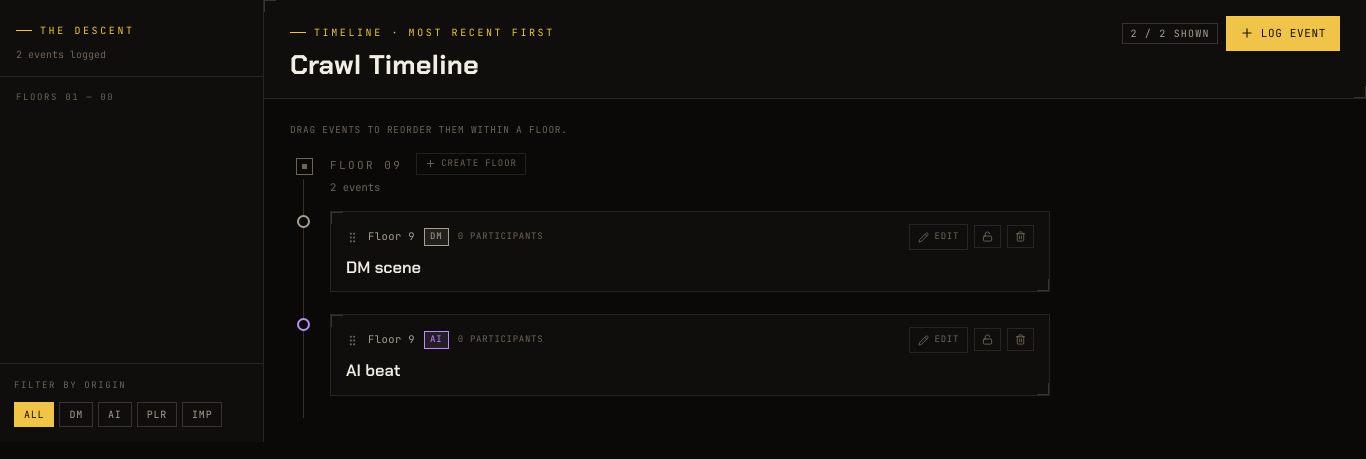
Test case: CampaignTimeline › filters events by provenance origin from the rail
Expected: the heading "DM scene" is shown, [346, 257, 421, 278]
Expected: the heading "AI beat" is shown, [346, 360, 400, 381]
Click the button "AI" at (115, 414), box [98, 402, 132, 426]
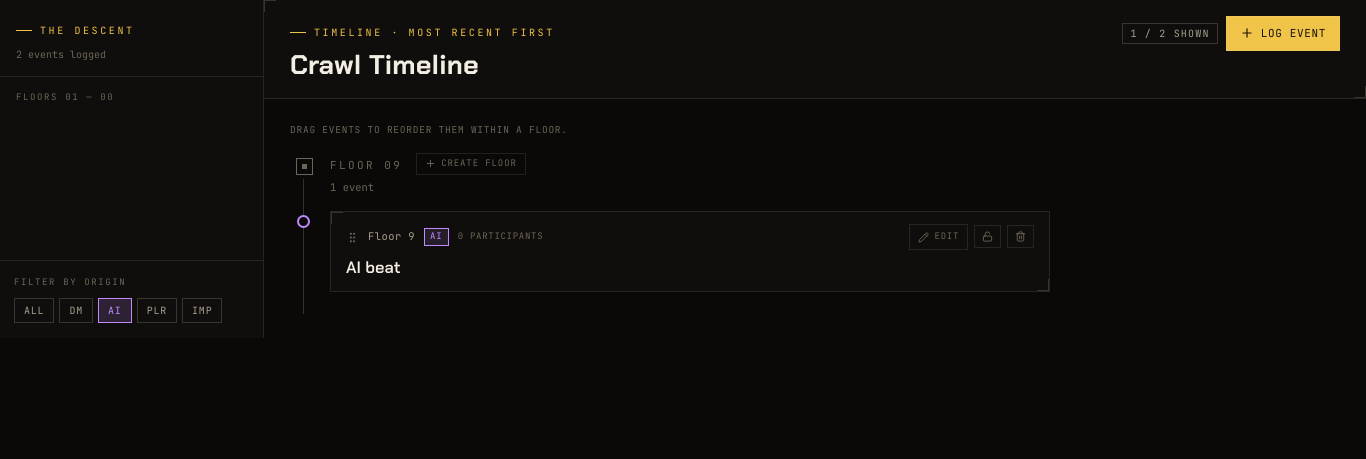
Expected: the heading "AI beat" is shown, [346, 257, 400, 278]
Expected: the heading "DM scene" is gone
